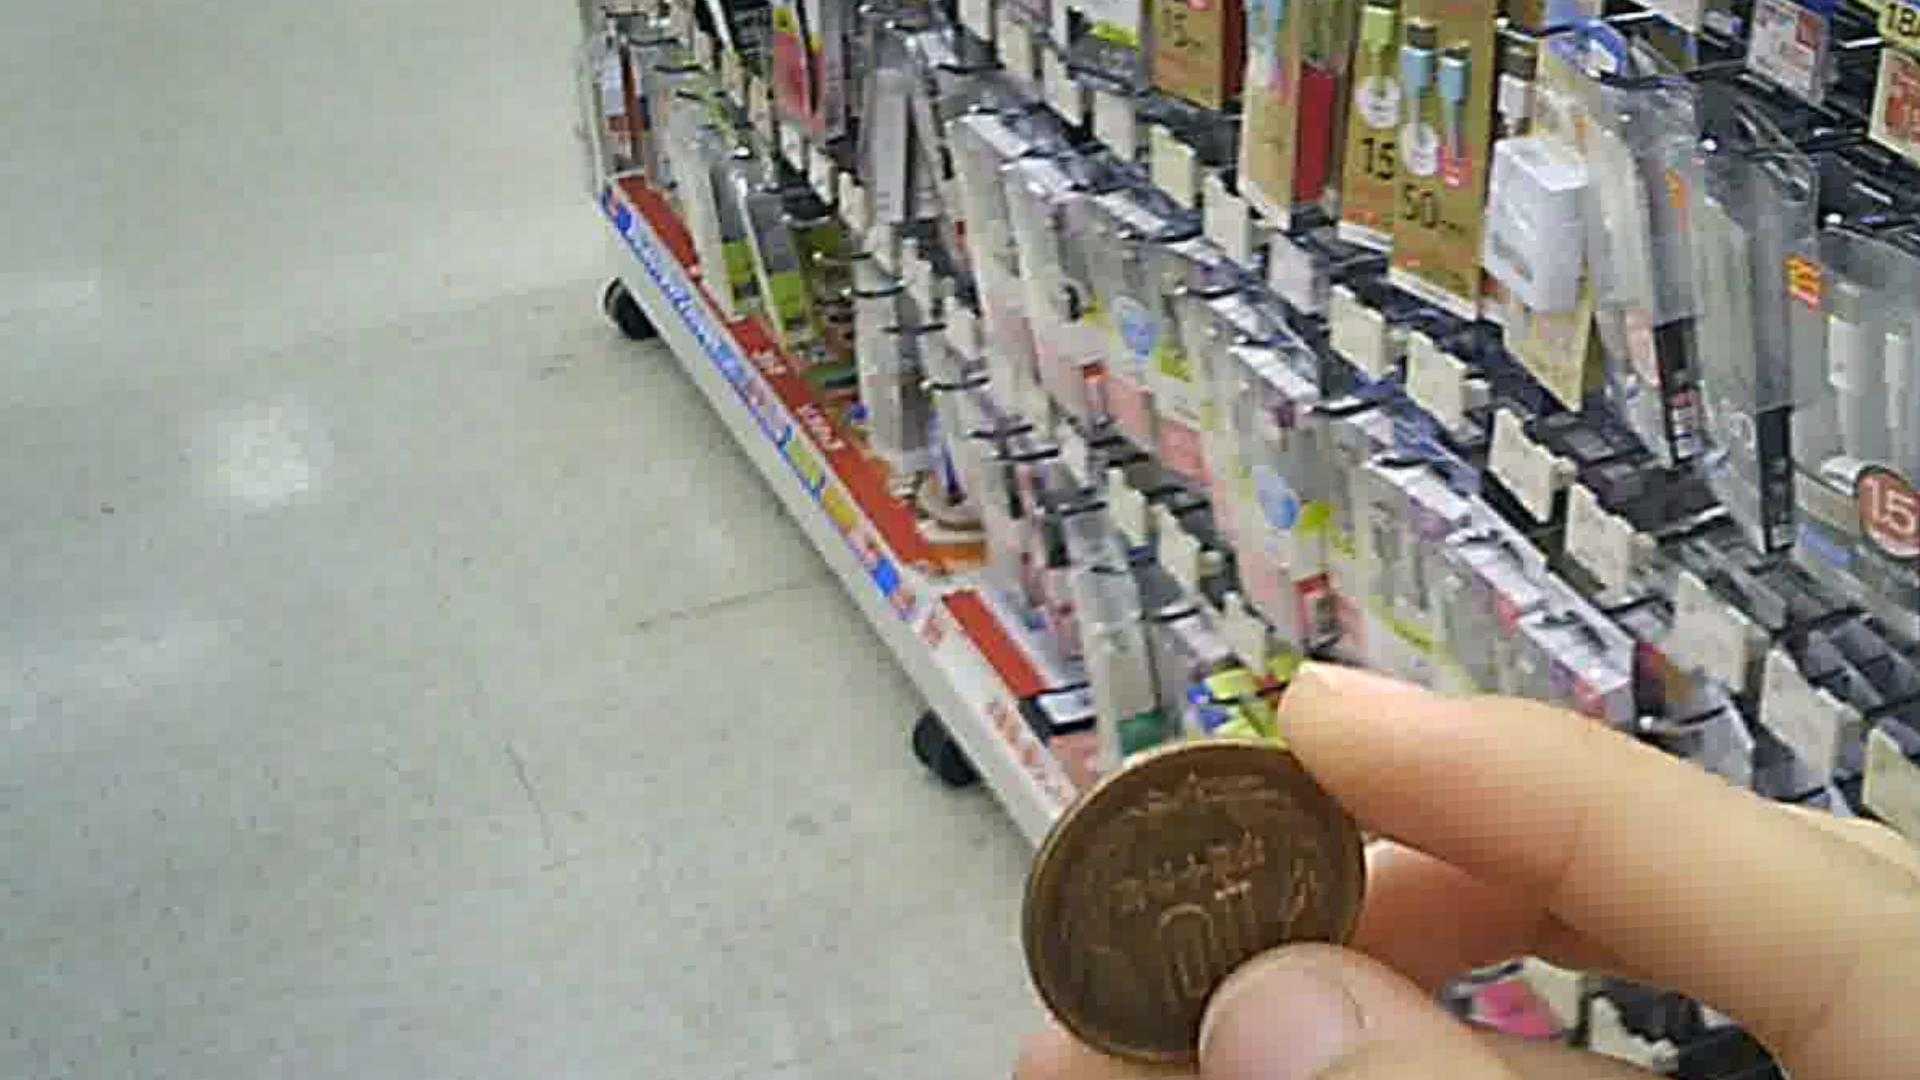10 Yen: (1035, 705, 1369, 1042)
